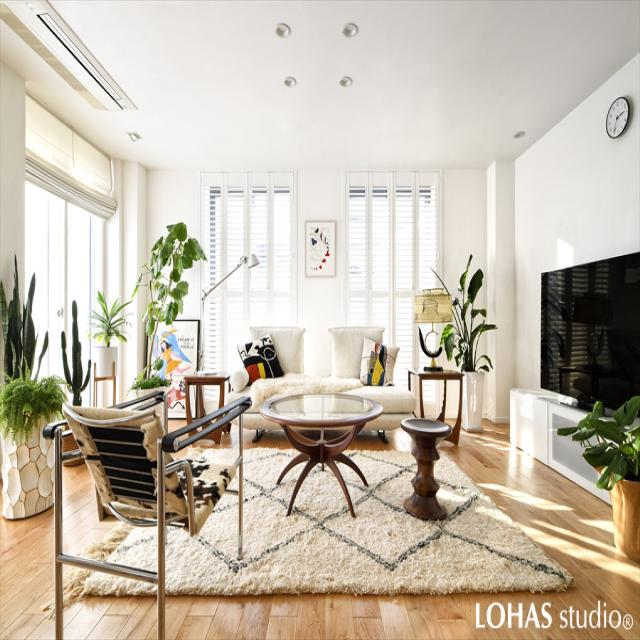vintage desk: (255, 388, 392, 527), (391, 412, 463, 535)
